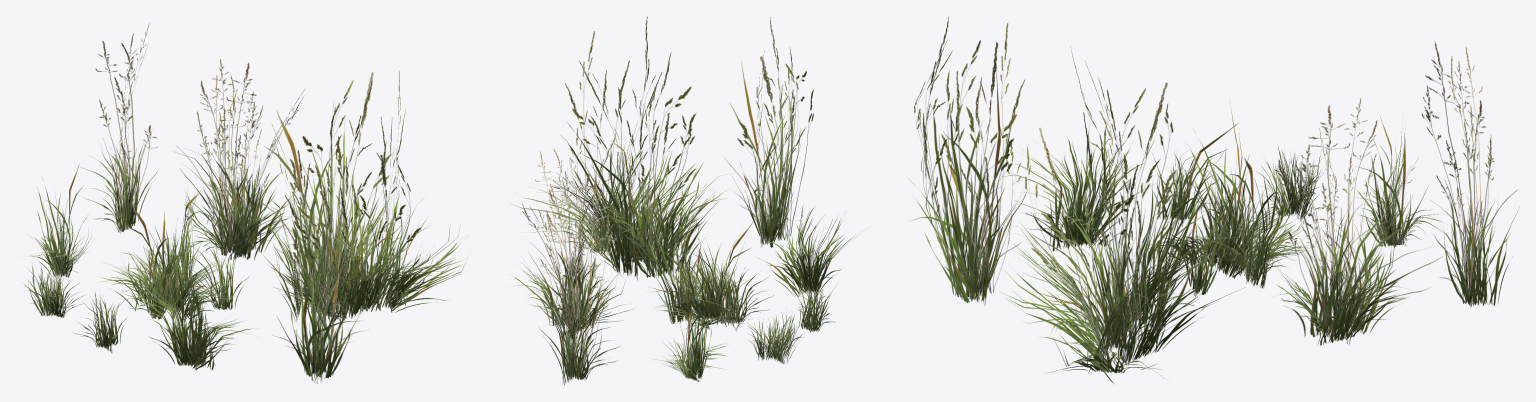
File: real_bush.glb
3 renders of one model, left to right at view 1: azimuth 30°, elevation 25°; view 2: azimuth 150°, elevation 25°; view 3: azimuth 270°, elevation 25°, orthographic. The views are drawn at different scales.
Visible parts, largest first — view 1: tall_bush_1, tall_bush_3, Medium_bush_1, tall_bush_2, tall_bush_4, Medium_bush_2, Medium_bush_3, Small_bush_1, Small_bush_2; view 2: tall_bush_1, tall_bush_3, tall_bush_2, Medium_bush_1, tall_bush_4, Medium_bush_2, Medium_bush_3, Small_bush_1, Small_bush_2; view 3: tall_bush_1, tall_bush_2, tall_bush_3, Medium_bush_1, tall_bush_4, Medium_bush_2, Medium_bush_3, Small_bush_1, Small_bush_2.
Boxes of the visible parts, <box> form: tall_bush_1: <box>250,71,470,322</box>; tall_bush_3: <box>175,59,305,260</box>; Medium_bush_1: <box>96,189,249,324</box>; tall_bush_2: <box>273,150,368,383</box>; tall_bush_4: <box>79,23,158,233</box>; Medium_bush_2: <box>132,262,256,370</box>; Medium_bush_3: <box>27,164,90,277</box>; Small_bush_1: <box>23,259,85,317</box>; Small_bush_2: <box>73,292,126,353</box>; tall_bush_1: <box>510,16,733,280</box>; tall_bush_3: <box>508,148,632,335</box>; tall_bush_2: <box>724,17,813,247</box>; Medium_bush_1: <box>645,219,773,334</box>; tall_bush_4: <box>535,176,620,385</box>; Medium_bush_2: <box>754,204,870,297</box>; Medium_bush_3: <box>653,269,729,381</box>; Small_bush_1: <box>747,312,803,364</box>; Small_bush_2: <box>793,278,836,332</box>; tall_bush_1: <box>998,47,1244,384</box>; tall_bush_2: <box>907,16,1027,305</box>; tall_bush_3: <box>1270,98,1442,345</box>; Medium_bush_1: <box>1145,101,1313,297</box>; tall_bush_4: <box>1421,41,1519,307</box>; Medium_bush_2: <box>998,122,1157,251</box>; Medium_bush_3: <box>1355,114,1447,247</box>; Small_bush_1: <box>1255,145,1323,223</box>; Small_bush_2: <box>1152,150,1219,226</box>.
Size of the model in its own units: 224 by 145 by 256.
Materials: 1 (1 with a texture image).
